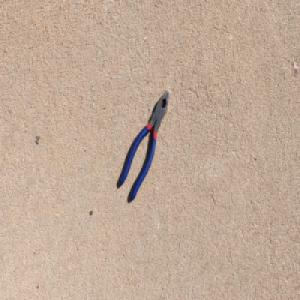Pliers: (119, 87, 170, 201)
